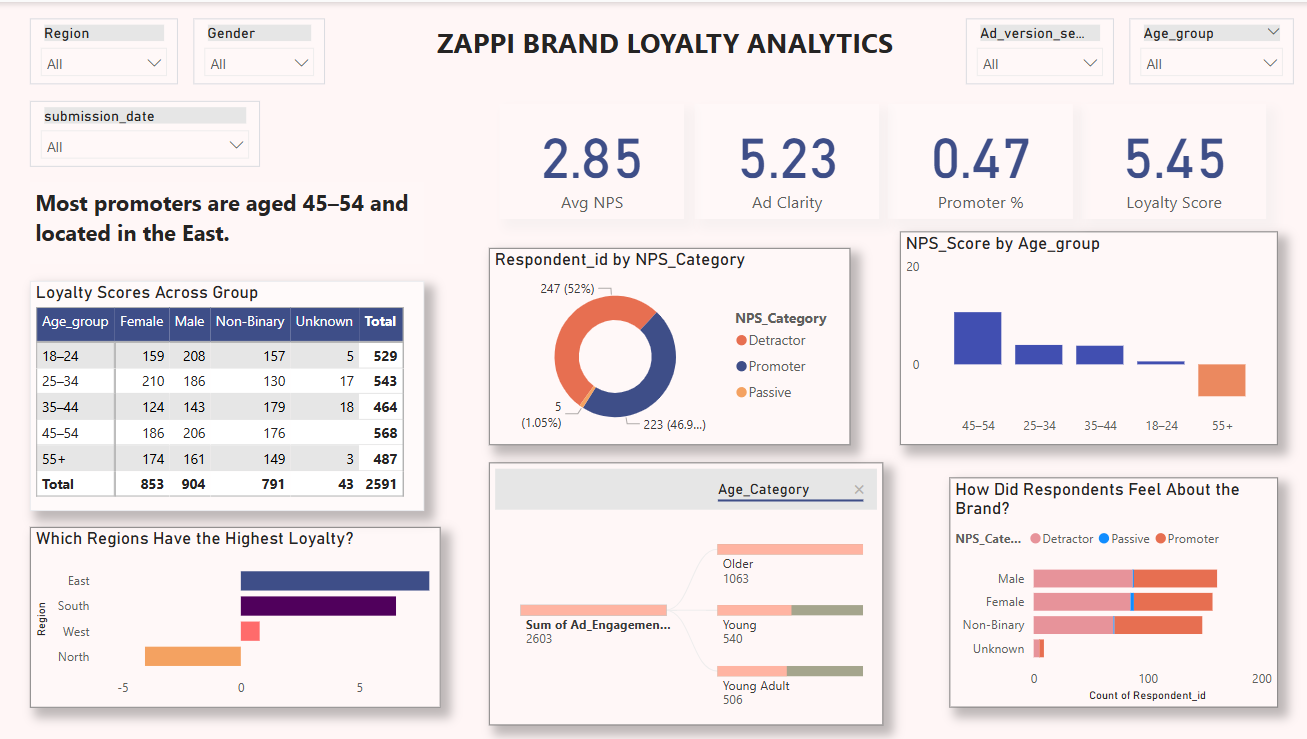

The page's visual inventory and layout, read from the dashboard file:
{"tool":"powerbi","page":{"name":"Page 1","canvas":[1280,720],"ordinal":0},"visuals":[{"type":"textbox","box":[400,16,512,64],"z":0},{"type":"card","title":"NPS","fields":{"Values":["Avg(zappi_data zappi_brand_loyalty_survey_csv.NPS_Score)"]},"box":[490,100,180,112],"z":1000},{"type":"slicer","fields":{"Values":["zappi_data zappi_brand_loyalty_survey_csv.Region"]},"box":[32,16,144,64],"z":2000},{"type":"card","fields":{"Values":["Avg(zappi_data zappi_brand_loyalty_survey_csv.Brand_Loyalty_Score)"]},"box":[1056,100,180,112],"z":3000},{"type":"decompositionTreeVisual","fields":{"ExplainBy":["zappi_data zappi_brand_loyalty_survey_csv.Age_Category"],"Analyze":["Sum(zappi_data zappi_brand_loyalty_survey_csv.Ad_Engagement_Score)"]},"box":[480,448,384,256],"z":4000},{"type":"clusteredColumnChart","title":"NPS_Score by Age_group","fields":{"Category":["zappi_data zappi_brand_loyalty_survey_csv.Age_group"],"Y":["Avg(zappi_data zappi_brand_loyalty_survey_csv.NPS_Score)"]},"box":[880,224,368,208],"z":5000},{"type":"card","fields":{"Values":["zappi_data zappi_brand_loyalty_survey_csv.Promoter %"]},"box":[868,100,180,112],"z":6000},{"type":"card","title":"How Clear Was the Ad’s Message?","fields":{"Values":["Avg(zappi_data zappi_brand_loyalty_survey_csv.Message_Clarity_Score)"]},"box":[680,100,180,112],"z":7000},{"type":"barChart","title":"How Did Respondents Feel About the Brand?","fields":{"Category":["zappi_data zappi_brand_loyalty_survey_csv.Gender"],"Series":["zappi_data zappi_brand_loyalty_survey_csv.NPS_Category"],"Y":["CountNonNull(zappi_data zappi_brand_loyalty_survey_csv.Respondent_id)"]},"box":[928,464,320,224],"z":8000},{"type":"clusteredBarChart","title":"Which Regions Have the Highest Loyalty?","fields":{"Y":["Avg(zappi_data zappi_brand_loyalty_survey_csv.NPS_Score)"],"Category":["zappi_data zappi_brand_loyalty_survey_csv.Region"]},"box":[32,512,400,176],"z":9000},{"type":"donutChart","title":"Respondent_id by NPS_Category","fields":{"Category":["zappi_data zappi_brand_loyalty_survey_csv.NPS_Category"],"Y":["CountNonNull(zappi_data zappi_brand_loyalty_survey_csv.Respondent_id)"]},"box":[480,240,352,192],"z":10000},{"type":"pivotTable","title":"Loyalty Scores Across Group ","fields":{"Rows":["zappi_data zappi_brand_loyalty_survey_csv.Age_group"],"Columns":["zappi_data zappi_brand_loyalty_survey_csv.Gender"],"Values":["Sum(zappi_data zappi_brand_loyalty_survey_csv.Brand_Loyalty_Score)"]},"box":[32,272,384,224],"z":11000},{"type":"slicer","fields":{"Values":["zappi_data zappi_brand_loyalty_survey_csv.Gender"]},"box":[192,16,128,64],"z":12000},{"type":"slicer","fields":{"Values":["zappi_data zappi_brand_loyalty_survey_csv.ad_version_seen"]},"box":[944,16,144,64],"z":13000},{"type":"slicer","fields":{"Values":["zappi_data zappi_brand_loyalty_survey_csv.Age_group"]},"box":[1104,16,160,64],"z":14000},{"type":"slicer","fields":{"Values":["zappi_data zappi_brand_loyalty_survey_csv.submission_date"]},"box":[32,96,224,64],"z":15000},{"type":"textbox","box":[32,176,384,80],"z":15001}]}

Visuals, with their boxes in screenshot pixels (x1, y1, x2, y2), scaled from the page's 1280x720 canvas onto the 1307x739 screenshot:
textbox: bbox=(408, 16, 931, 82)
"NPS" card: bbox=(500, 103, 684, 218)
slicer - zappi_data zappi_brand_loyalty_survey_csv.Region: bbox=(33, 16, 180, 82)
card - Avg(zappi_data zappi_brand_loyalty_survey_csv.Brand_Loyalty_Score): bbox=(1078, 103, 1262, 218)
decompositionTreeVisual - zappi_data zappi_brand_loyalty_survey_csv.Age_Category x Sum(zappi_data zappi_brand_loyalty_survey_csv.Ad_Engagement_Score): bbox=(490, 460, 882, 723)
"NPS_Score by Age_group" clusteredColumnChart: bbox=(899, 230, 1274, 443)
card - zappi_data zappi_brand_loyalty_survey_csv.Promoter %: bbox=(886, 103, 1070, 218)
"How Clear Was the Ad’s Message?" card: bbox=(694, 103, 878, 218)
"How Did Respondents Feel About the Brand?" barChart: bbox=(948, 476, 1274, 706)
"Which Regions Have the Highest Loyalty?" clusteredBarChart: bbox=(33, 526, 441, 706)
"Respondent_id by NPS_Category" donutChart: bbox=(490, 246, 850, 443)
"Loyalty Scores Across Group " pivotTable: bbox=(33, 279, 425, 509)
slicer - zappi_data zappi_brand_loyalty_survey_csv.Gender: bbox=(196, 16, 327, 82)
slicer - zappi_data zappi_brand_loyalty_survey_csv.ad_version_seen: bbox=(964, 16, 1111, 82)
slicer - zappi_data zappi_brand_loyalty_survey_csv.Age_group: bbox=(1127, 16, 1291, 82)
slicer - zappi_data zappi_brand_loyalty_survey_csv.submission_date: bbox=(33, 99, 261, 164)
textbox: bbox=(33, 181, 425, 263)
